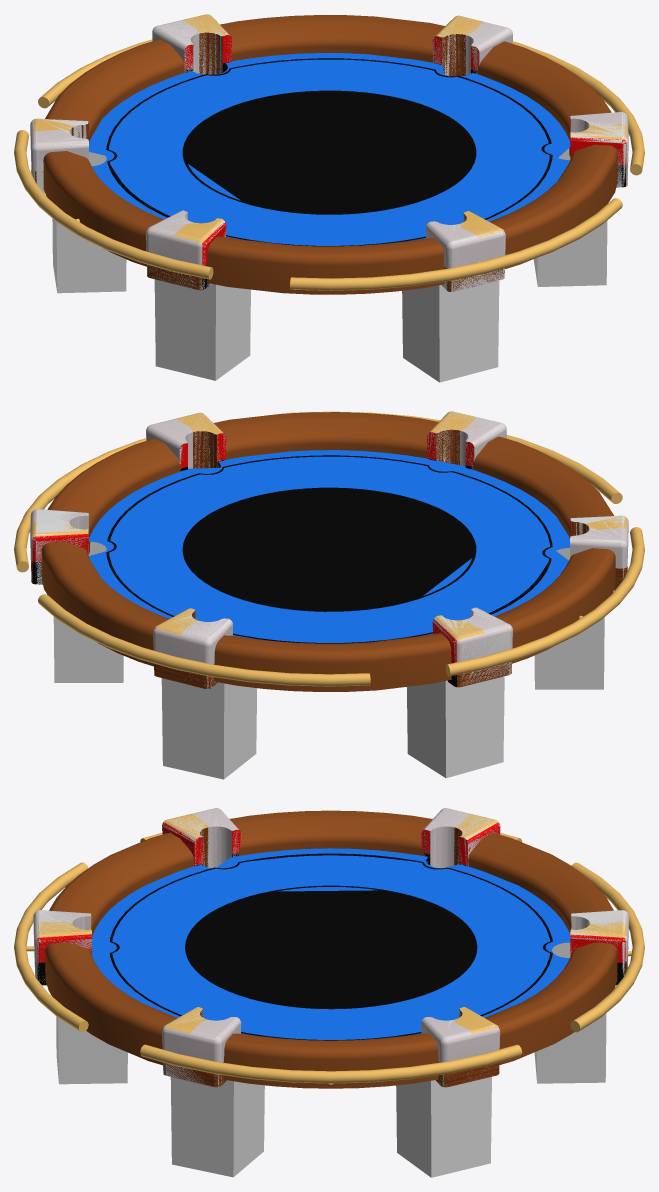
Rendered from Circle6Holes.fbx.
3 views of the same model, one above another, from view 1: azimuth 30°, elevation 25°; view 2: azimuth 150°, elevation 25°; view 3: azimuth 270°, elevation 25° (orthographic).
Parts seen in each view (by area): view 1: EdgeHighlight, DisplayBase, InnerCircle, Hole1TriggerSide2, Hole2TriggerSide2, HandleRing.003, Hole6TriggerSide4, HandleRing.002, Hole3TriggerSide4, Hole2TriggerSide4, Hole1TriggerSide1, OuterCircle.007 (+8 smaller); view 2: EdgeHighlight, DisplayBase, InnerCircle, Hole5TriggerSide3, Hole6TriggerSide3, HandleRing.001, Hole1TriggerSide4, HandleRing.002, Hole6TriggerSide1, Hole4TriggerSide4, Hole5TriggerSide4, HoleGlow6 (+8 smaller); view 3: EdgeHighlight, DisplayBase, InnerCircle, Hole3TriggerSide2, Hole4TriggerSide3, HandleRing, Hole5TriggerSide1, Hole2TriggerSide1, Hole4TriggerSide1, HandleRing.003, Hole3TriggerSide1, HandleRing.001 (+7 smaller).
Part boxes in pixels (x1,y1,x2,y2): EdgeHighlight: (30,14,628,294); DisplayBase: (89,53,570,245); InnerCircle: (182,90,476,214); Hole1TriggerSide2: (154,279,215,380); Hole2TriggerSide2: (439,280,499,382); HandleRing.003: (290,198,622,290); Hole6TriggerSide4: (56,222,126,293); HandleRing.002: (14,130,213,279); Hole3TriggerSide4: (537,221,607,286); Hole2TriggerSide4: (402,285,439,382); Hole1TriggerSide1: (215,284,250,380); OuterCircle.007: (106,58,552,246); EdgeHighlight: (30,411,628,691); DisplayBase: (88,450,569,642); InnerCircle: (182,487,476,611); Hole5TriggerSide3: (161,678,224,779); Hole6TriggerSide3: (445,676,504,778); HandleRing.001: (38,594,370,686); Hole1TriggerSide4: (534,617,604,689); HandleRing.002: (445,527,644,676); Hole6TriggerSide1: (407,681,445,777); Hole4TriggerSide4: (53,617,123,682); Hole5TriggerSide4: (224,683,257,778); HoleGlow6: (433,608,512,685); EdgeHighlight: (33,808,628,1088); DisplayBase: (92,848,570,1039); InnerCircle: (185,885,477,1009); Hole3TriggerSide2: (170,1077,233,1177); Hole4TriggerSide3: (431,1077,491,1177); HandleRing: (140,1044,522,1083); Hole5TriggerSide1: (536,1013,606,1083); Hole2TriggerSide1: (58,1018,127,1084); Hole4TriggerSide1: (396,1081,431,1177); HandleRing.003: (14,862,88,1032); Hole3TriggerSide1: (233,1081,264,1176); HandleRing.001: (570,862,644,1032).
Bounding box in the file's own units: 2.44 × 0.6288 × 2.45.
